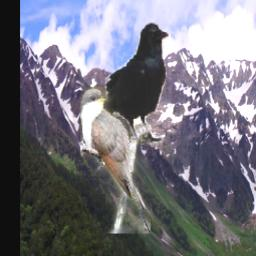Crow: (84, 20, 172, 145)
Cuckoo: (80, 88, 151, 235)
